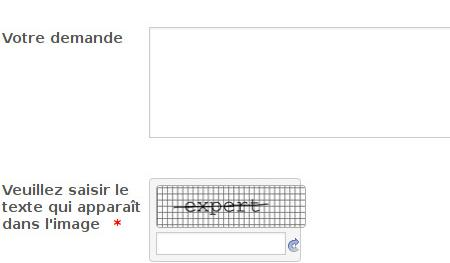field: (155, 228, 288, 255)
